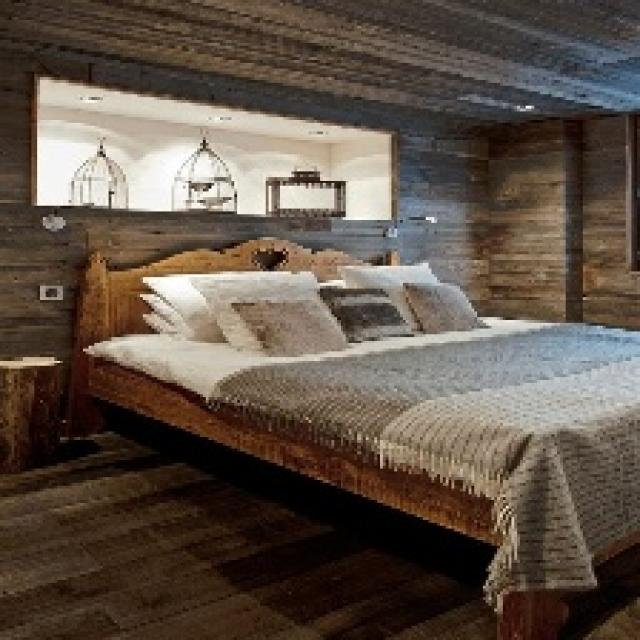Bed: (72, 234, 637, 637)
